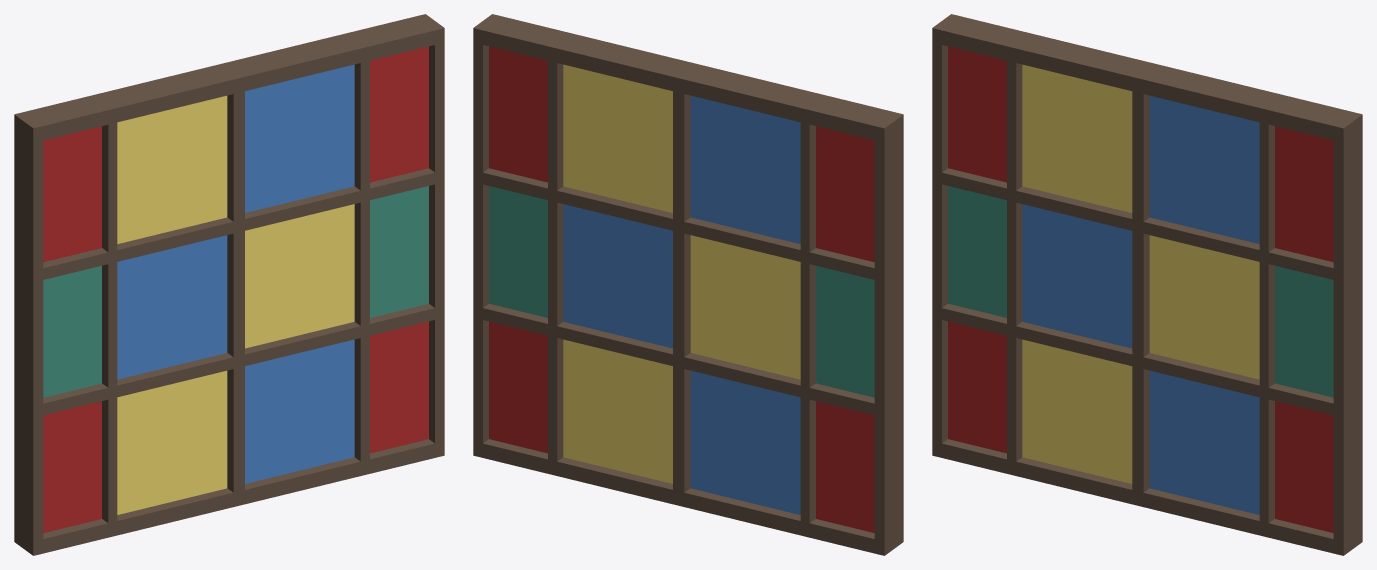
Rendered from Window_4.fbx.
The picture shows the model from 3 angles, left to right: view 1: azimuth 30°, elevation 25°; view 2: azimuth 150°, elevation 25°; view 3: azimuth 330°, elevation 25°; orthographic projection.
Visible parts, largest first — view 1: Window_4; view 2: Window_4; view 3: Window_4.
Part boxes in pixels (x1,y1,x2,y2): Window_4: [14, 14, 444, 555]; Window_4: [473, 14, 903, 555]; Window_4: [932, 14, 1362, 555].
Size of the model in its own units: 119 by 9.64 by 118.
